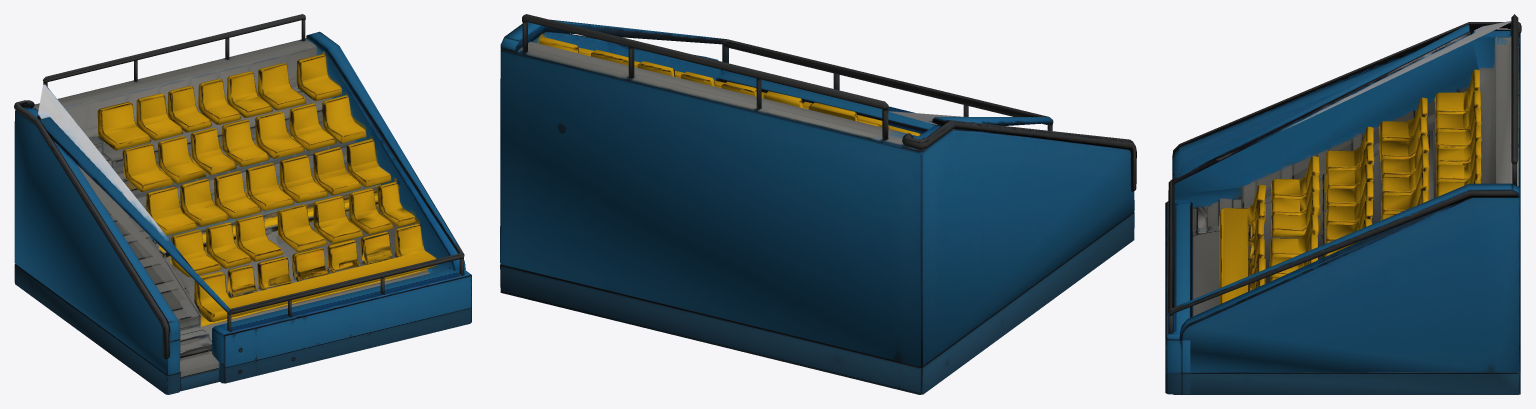
The model's file is grandstand.glb.
3 renders of one model, left to right at view 1: azimuth 30°, elevation 25°; view 2: azimuth 150°, elevation 25°; view 3: azimuth 270°, elevation 25°, orthographic. The views are drawn at different scales.
Parts seen in each view (by area): view 1: tripo_node_a3c61aac-906b-48c3-b03d-da3c99f1905b; view 2: tripo_node_a3c61aac-906b-48c3-b03d-da3c99f1905b; view 3: tripo_node_a3c61aac-906b-48c3-b03d-da3c99f1905b.
Boxes of the visible parts, bbox=[...] form: tripo_node_a3c61aac-906b-48c3-b03d-da3c99f1905b: bbox=[14, 14, 471, 394]; tripo_node_a3c61aac-906b-48c3-b03d-da3c99f1905b: bbox=[500, 14, 1136, 394]; tripo_node_a3c61aac-906b-48c3-b03d-da3c99f1905b: bbox=[1165, 14, 1521, 394].
Size of the model in its own units: 8.98 by 5.68 by 8.
1 material, 1 textured.
